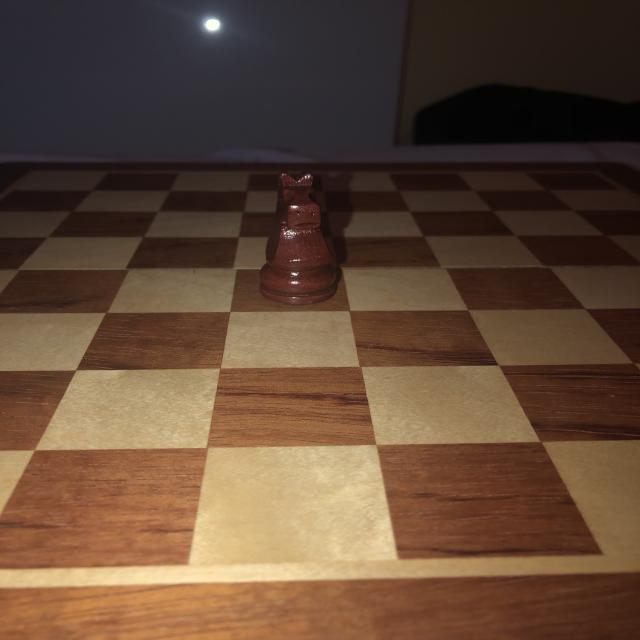black_knight: (257, 168, 341, 307)
